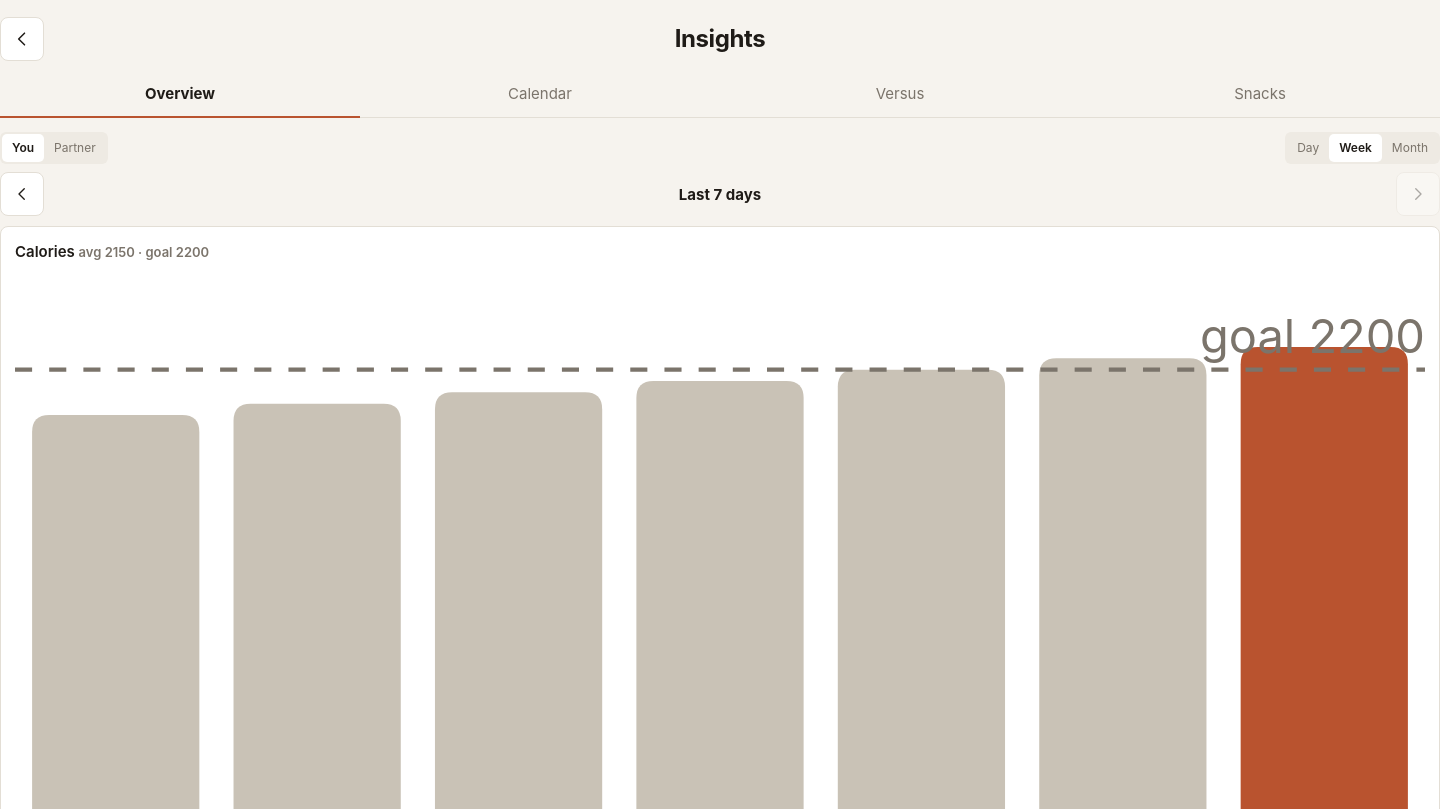
Test: InsightsPage › overview month range loads the last 30 days
Step 1. Click the button "Month" → (1410, 148), box [1382,134,1438,162]
(page scrolled)
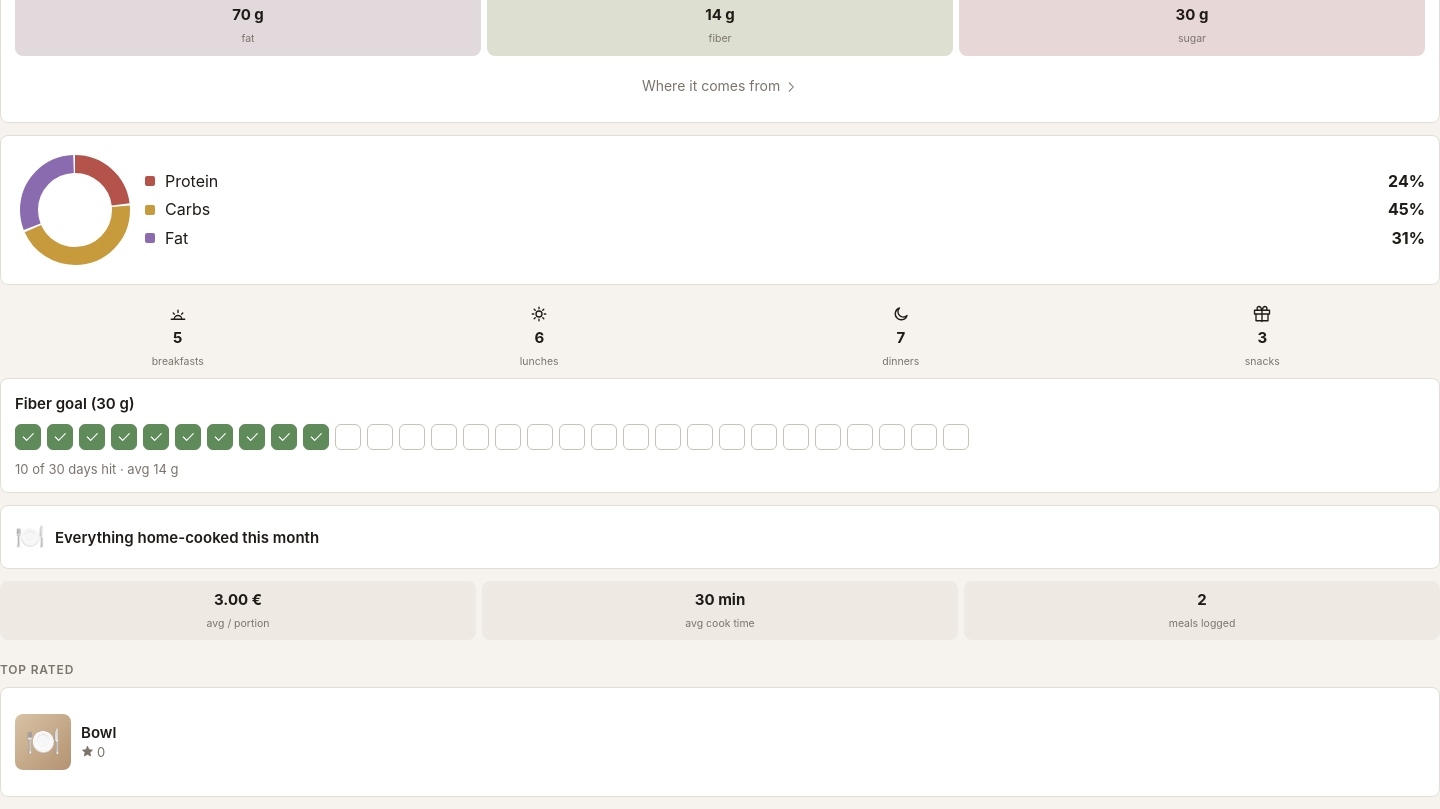
Expected: the text "10 of 30 days hit · avg 14 g" is shown, [15,461,178,477]
